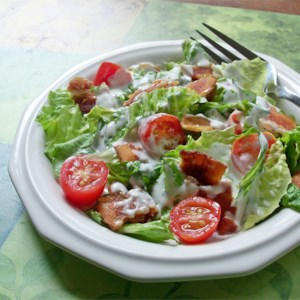chopped lettuce: (37, 88, 128, 173), (239, 137, 300, 230), (112, 153, 195, 203), (126, 83, 200, 119)
